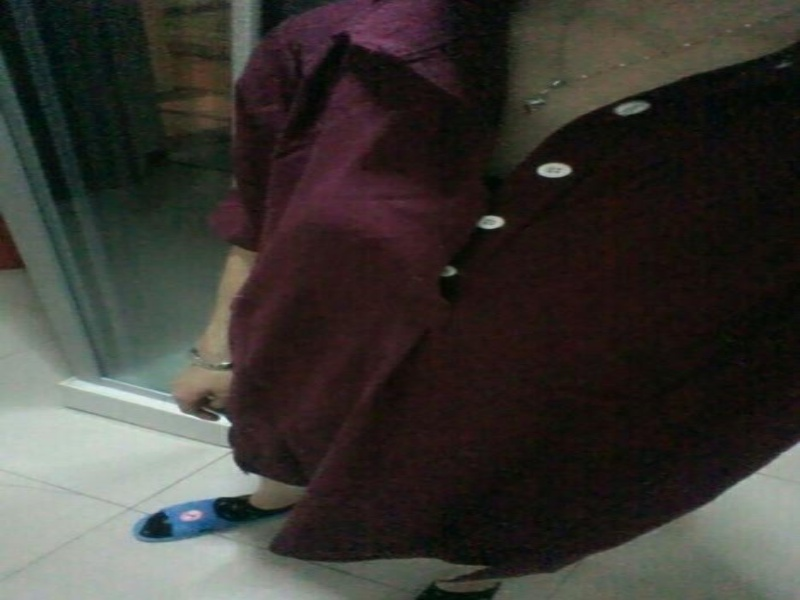long_sleeved_dress: (195, 0, 797, 573)
